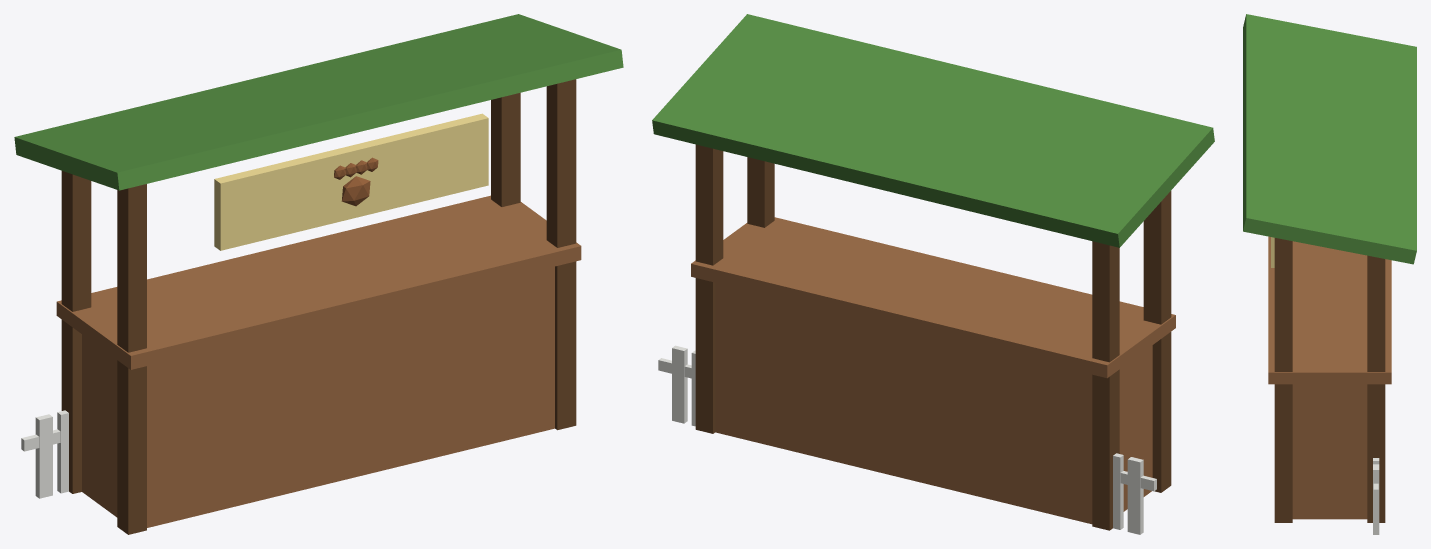
The model's file is PenCounter.fbx.
3 renders of one model, left to right at view 1: azimuth 30°, elevation 25°; view 2: azimuth 150°, elevation 25°; view 3: azimuth 270°, elevation 25°, orthographic. The views are drawn at different scales.
Visible parts, largest first — view 1: Counter, Roof, Posts, Sign, Fence, Paw; view 2: Counter, Roof, Posts, Fence; view 3: Roof, Counter, Posts, Fence.
Part boxes in pixels (x1,y1,x2,y2): Counter: (56, 195, 581, 527); Roof: (14, 14, 623, 190); Posts: (61, 79, 576, 534); Sign: (214, 113, 488, 250); Fence: (21, 410, 68, 498); Paw: (334, 157, 378, 206); Counter: (691, 217, 1175, 524); Roof: (652, 14, 1214, 247); Posts: (695, 144, 1171, 530); Fence: (658, 345, 1156, 534); Roof: (1243, 14, 1416, 264); Counter: (1268, 236, 1391, 519); Posts: (1274, 238, 1385, 522); Fence: (1373, 458, 1379, 534).
Bounding box in the file's own units: 10 × 6.8 × 3.39.
